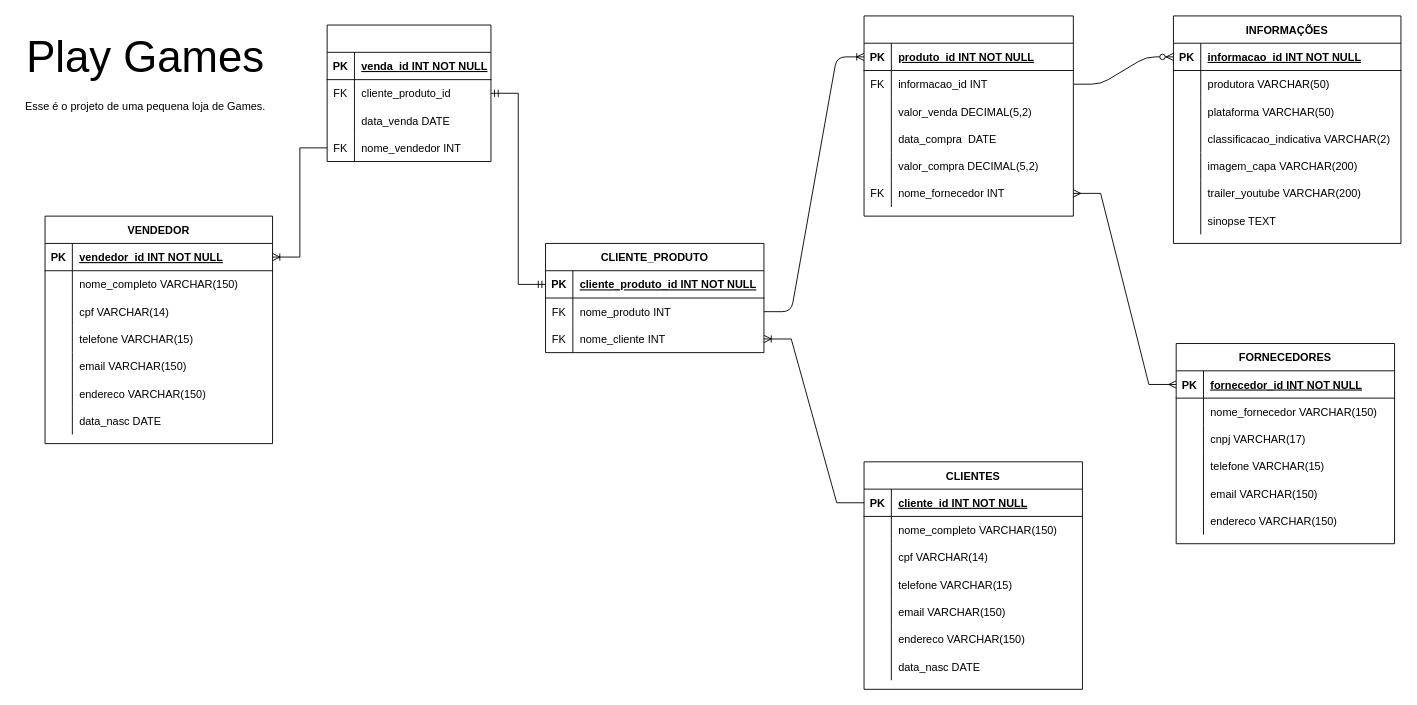
Image size: 1417x705. Some labels were removed from this diagram. The box of each missing label's shape, as (x1, y1, x2, y2) in pixels:
PRODUTOS: (863, 15, 1073, 216)
VENDAS: (326, 24, 491, 162)
